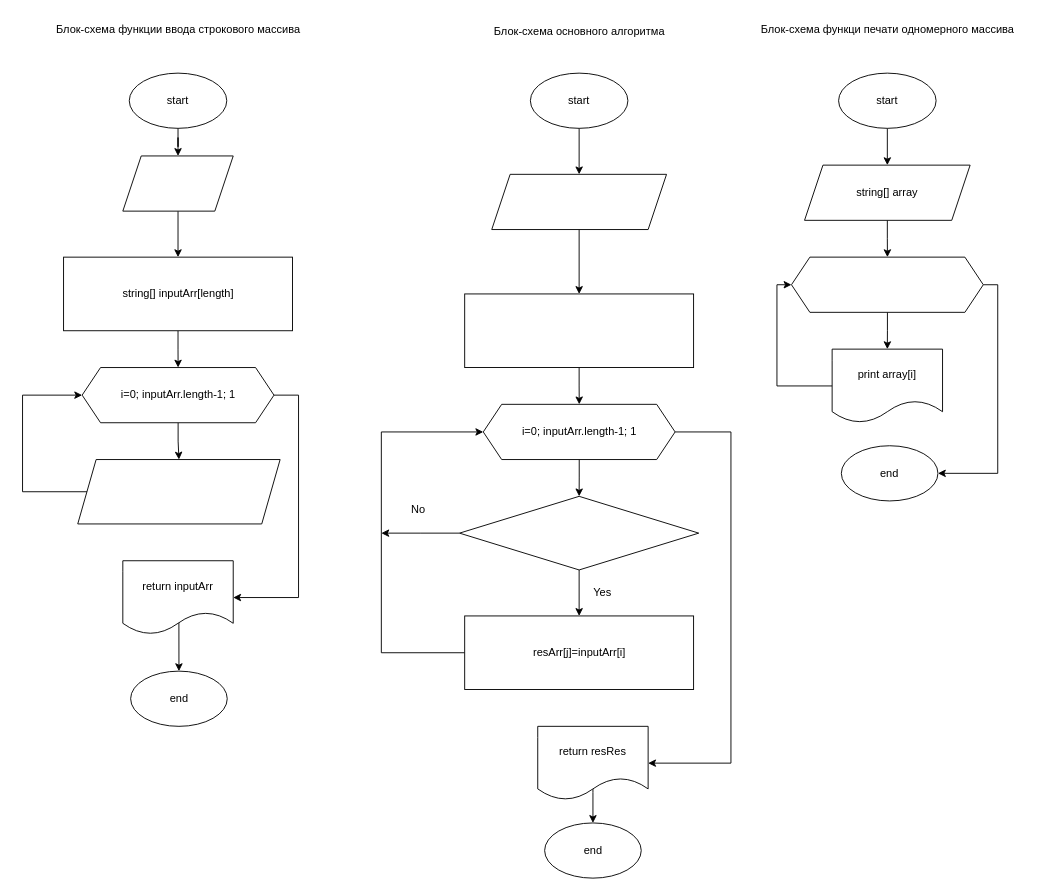
Image size: 1041x894. Some labels were removed from this diagram. Here are the shapes that lost their labels. From the top down, the box of each, then its label:
(122, 155, 233, 211): Введите длину массива int length
(491, 173, 667, 230): string[] inputArr
(791, 256, 983, 312): i=0; array.length-1; 1
(464, 293, 694, 368): string[] resArr=[] int j=0
(77, 459, 280, 524): Введите элемент с номером i string inputArr[i]
(459, 495, 699, 570): inputArr[i].length<=3
